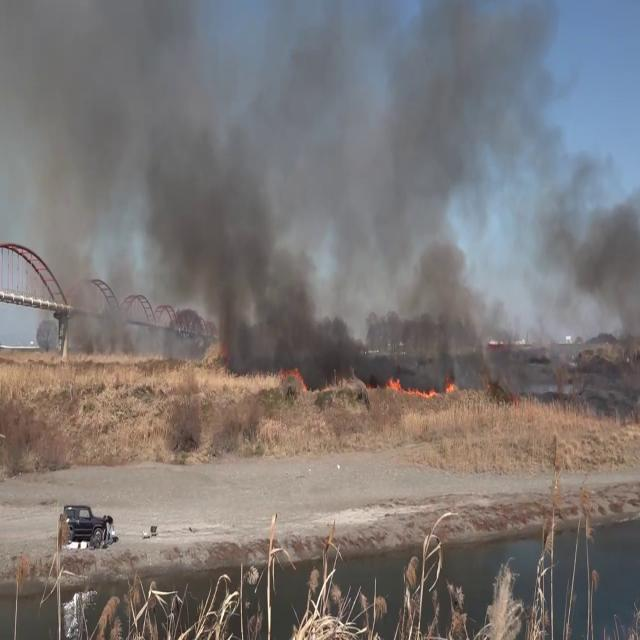Fire: (386, 374, 404, 397), (443, 375, 460, 397)
Smoke: (2, 0, 333, 385), (354, 1, 640, 374), (505, 139, 640, 373)
